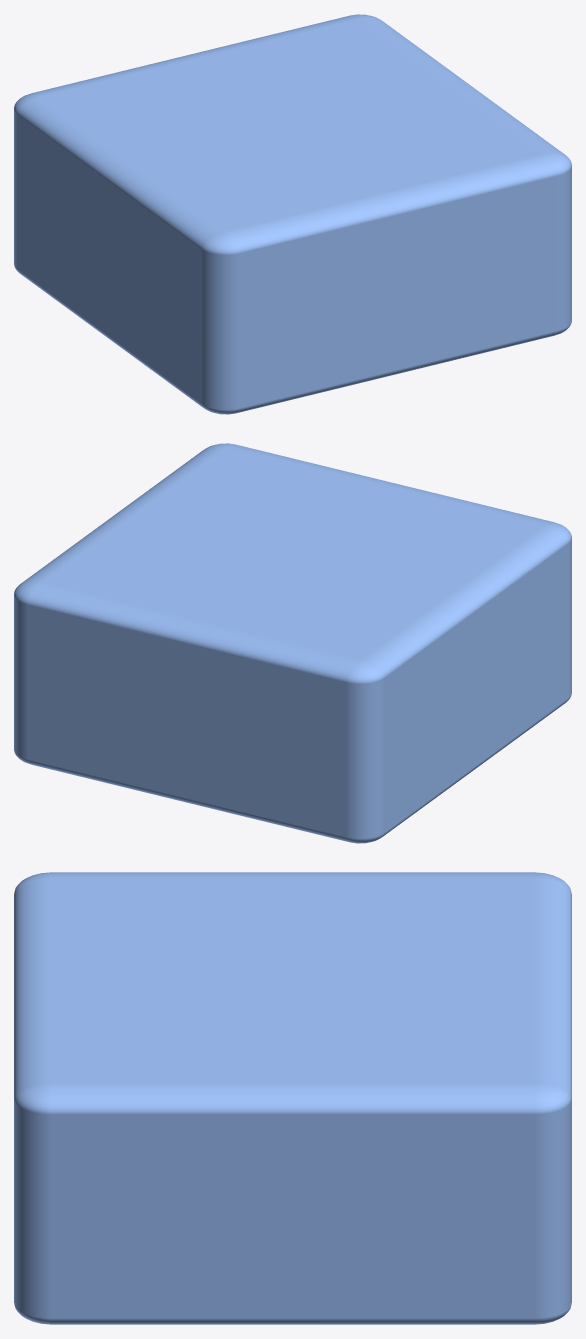
Rendered from mound.gltf.
3 renders of one model, top to bottom at view 1: azimuth 30°, elevation 25°; view 2: azimuth 150°, elevation 25°; view 3: azimuth 270°, elevation 25°, orthographic. The views are drawn at different scales.
Visible parts, largest first — view 1: Cube; view 2: Cube; view 3: Cube.
Part boxes in pixels (x1,y1,x2,y2): Cube: (14, 14, 571, 414); Cube: (14, 443, 571, 843); Cube: (14, 872, 571, 1324).
Bounding box in the file's own units: 1.2 × 0.5572 × 1.2.
